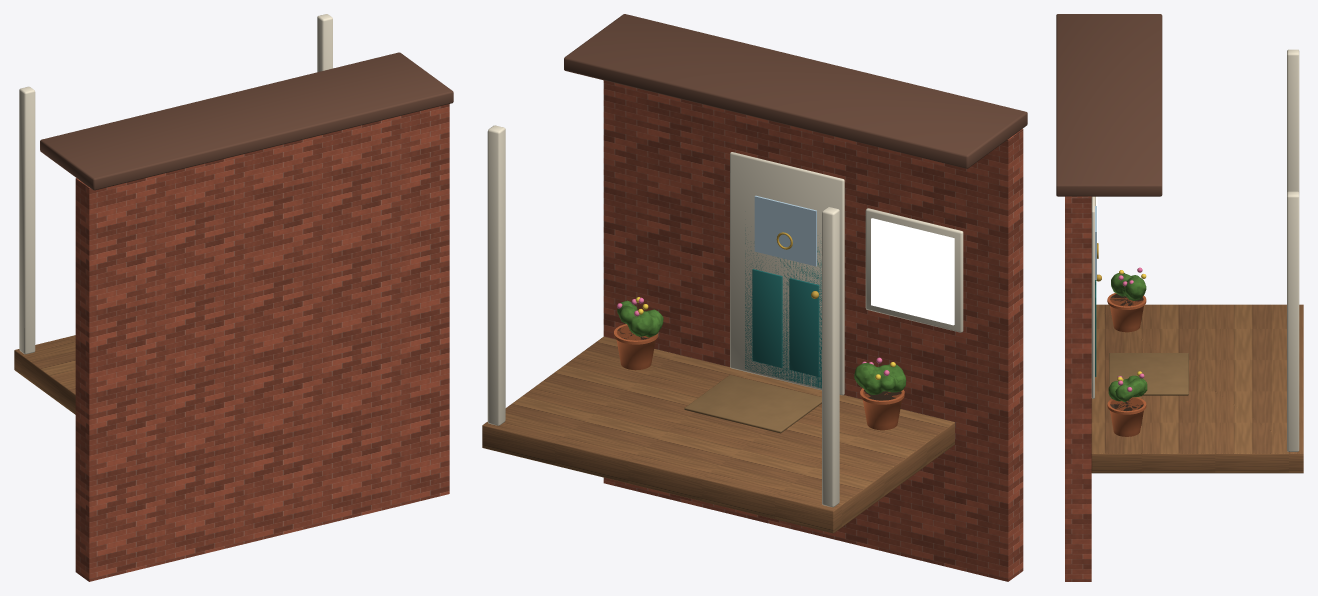
File: porch.fbx
The picture shows the model from 3 angles, left to right: view 1: azimuth 30°, elevation 25°; view 2: azimuth 150°, elevation 25°; view 3: azimuth 270°, elevation 25°; orthographic projection. The views are drawn at different scales.
Visible parts, largest first — view 1: porch; view 2: porch, porch_props; view 3: porch, porch_props.
Part boxes in pixels (bbox=[...]): porch: bbox=[14, 14, 453, 581]; porch: bbox=[482, 14, 1027, 581]; porch_props: bbox=[614, 297, 906, 433]; porch: bbox=[1056, 14, 1303, 581]; porch_props: bbox=[1107, 267, 1188, 436].
Bounding box in the file's own units: 4.6 × 4.95 × 2.8.
